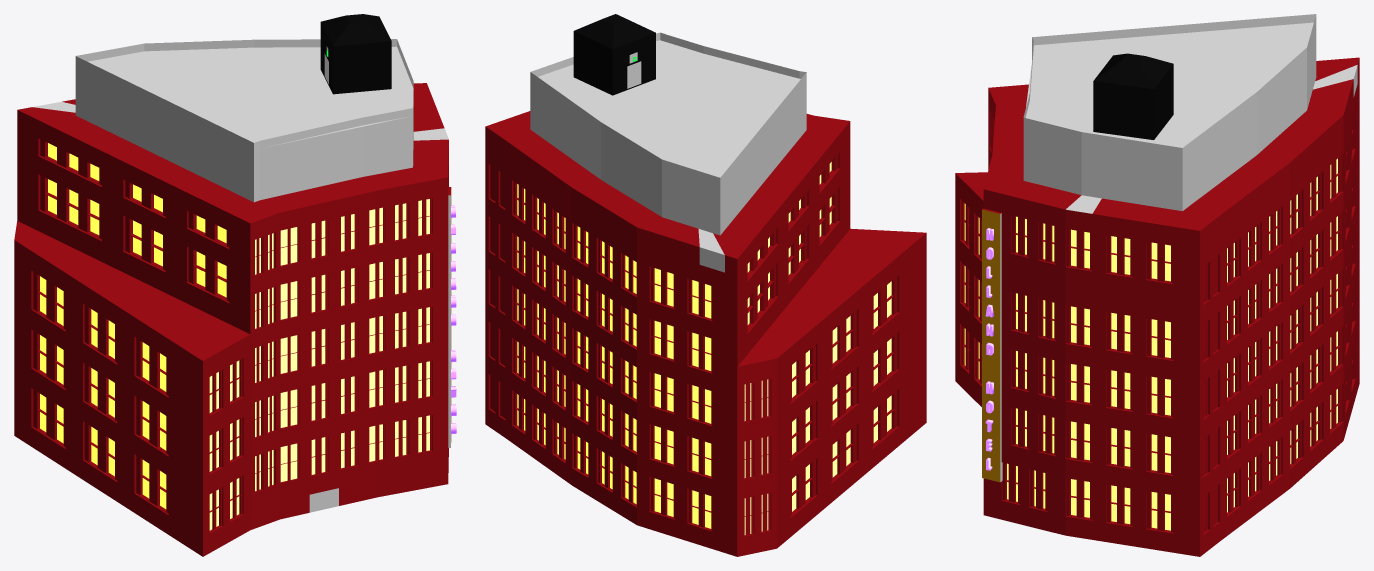
The model's file is holland_hotel.fbx.
3 renders of one model, left to right at view 1: azimuth 30°, elevation 25°; view 2: azimuth 150°, elevation 25°; view 3: azimuth 270°, elevation 25°, orthographic. The views are drawn at different scales.
Parts seen in each view (by area): view 1: Plane, Cube; view 2: Plane, Cube; view 3: Plane, Cube, Text.
Part boxes in pixels (x1,y1,x2,y2): Plane: (14,39,451,556); Cube: (320,14,391,94); Plane: (485,32,926,556); Cube: (573,14,655,95); Plane: (955,14,1359,556); Cube: (1093,53,1173,139); Text: (985,228,993,355).
Bounding box in the file's own units: 686 × 771 × 634.
